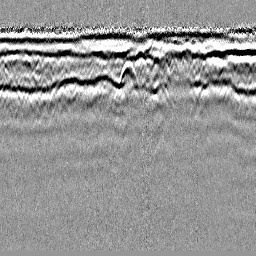cavity: (113, 59, 142, 98)
